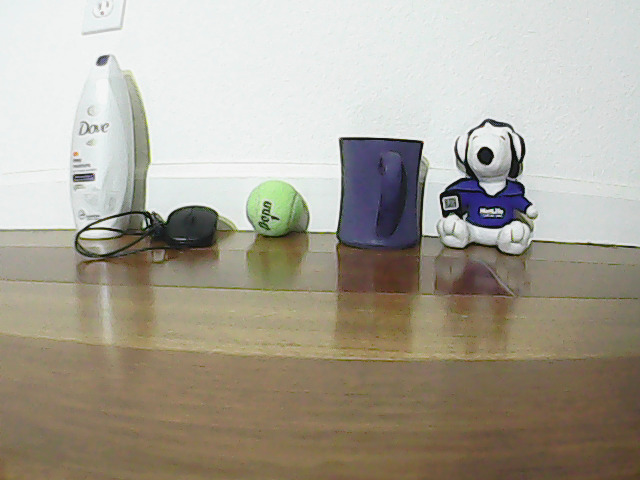ball: (242, 181, 305, 242)
mouse: (158, 188, 221, 253)
mug: (329, 126, 422, 249)
snoopy: (446, 114, 533, 253)
soap: (71, 44, 134, 232)
